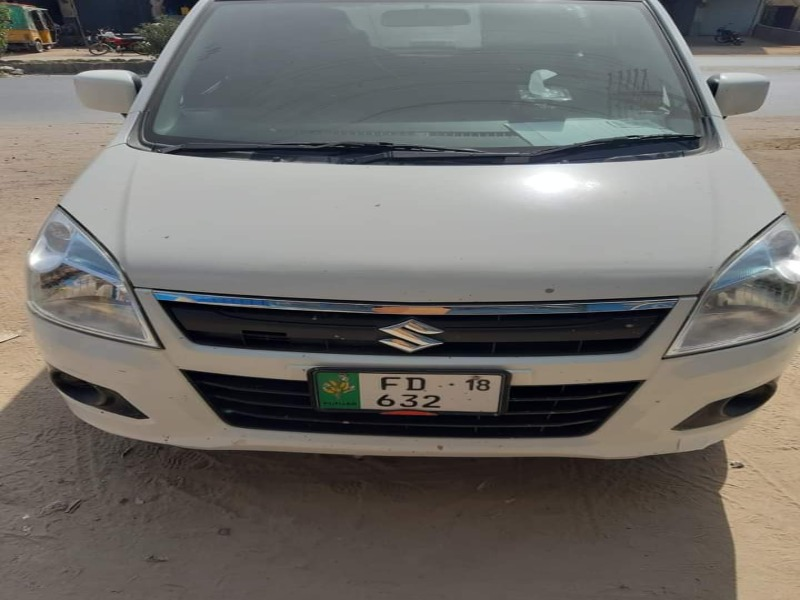License Plate: (307, 364, 513, 418)
